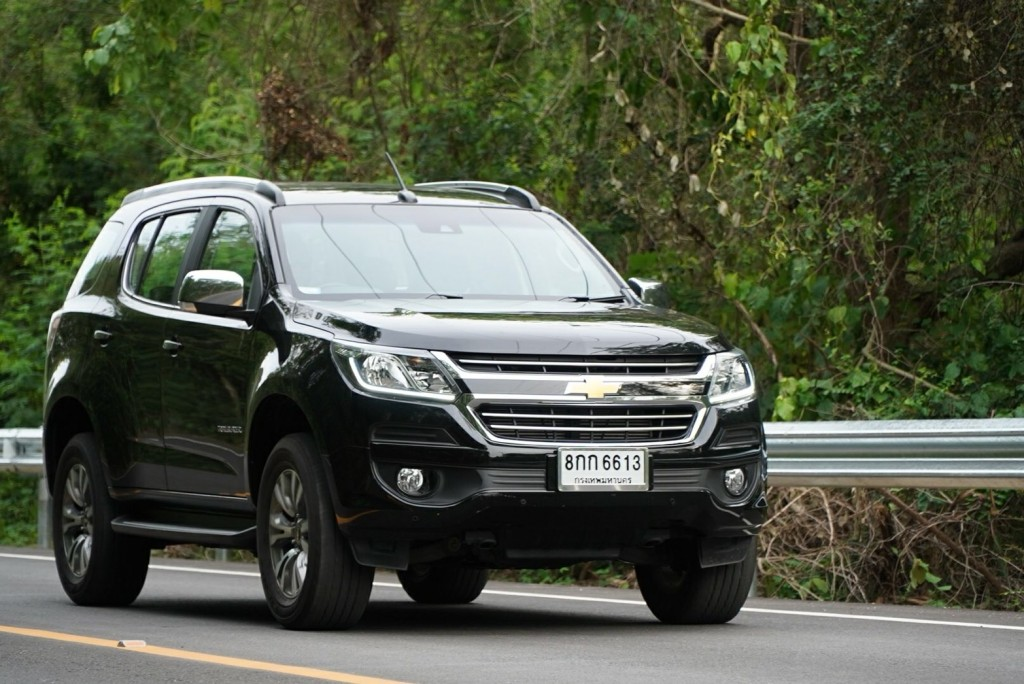pickup: (33, 173, 765, 625)
